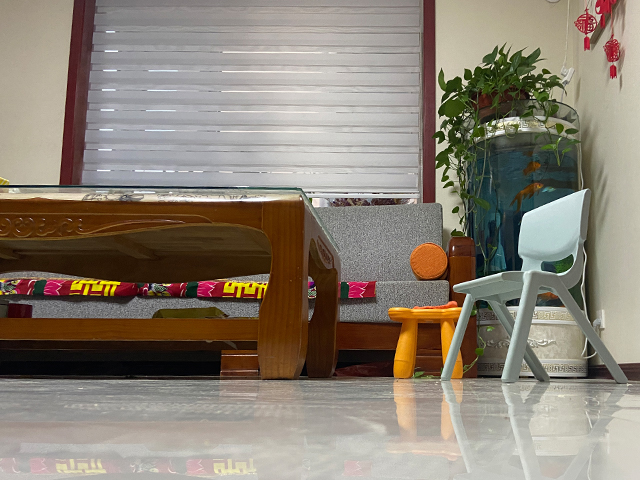sofa: (1, 201, 479, 380)
stool: (438, 185, 630, 385), (385, 305, 466, 381)
table: (1, 183, 343, 382)
